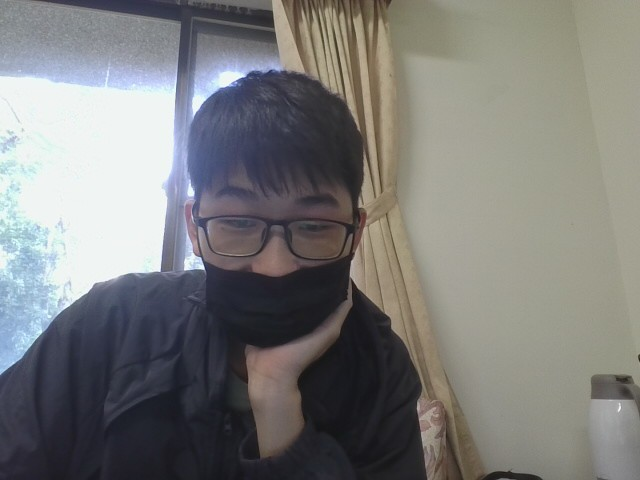No_Helmet: (179, 63, 371, 278)
person: (0, 53, 507, 480)
